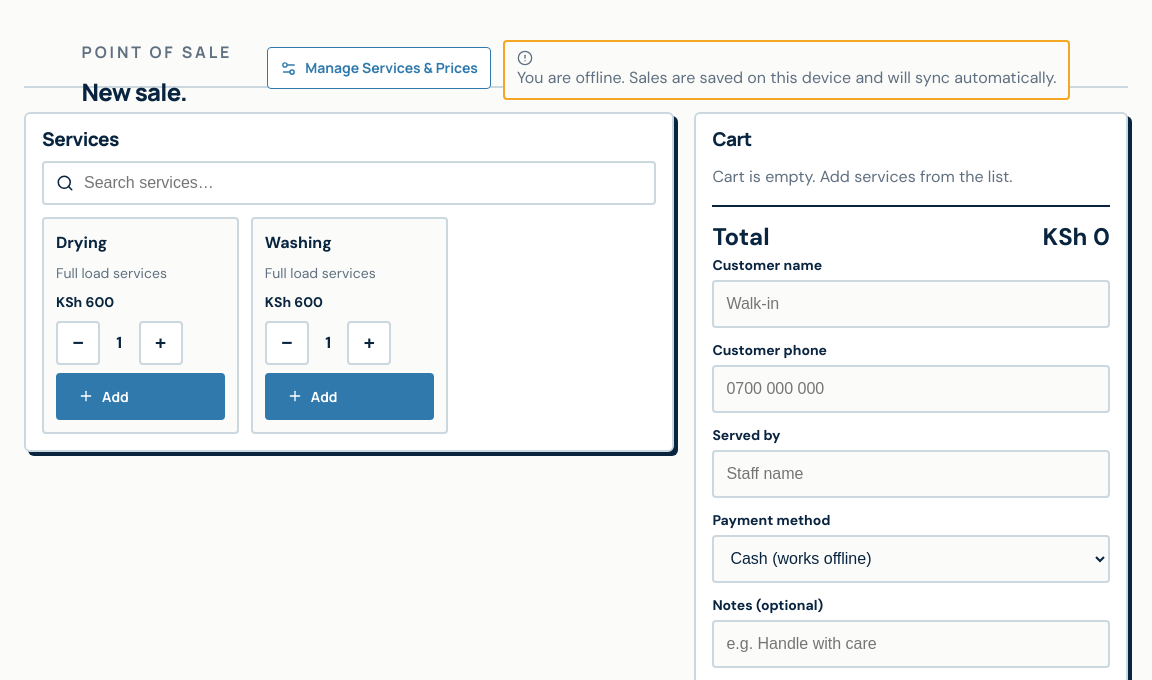
Test: cashier workflow offline (real component, real Dexie) › blocks checkout and persists nothing when customer details are missing
Expected: the text "Washing" is shown, [265, 232, 332, 253]
Click the button "Add" below "Washing" at (349, 396), box [265, 373, 434, 420]
(page scrolled)
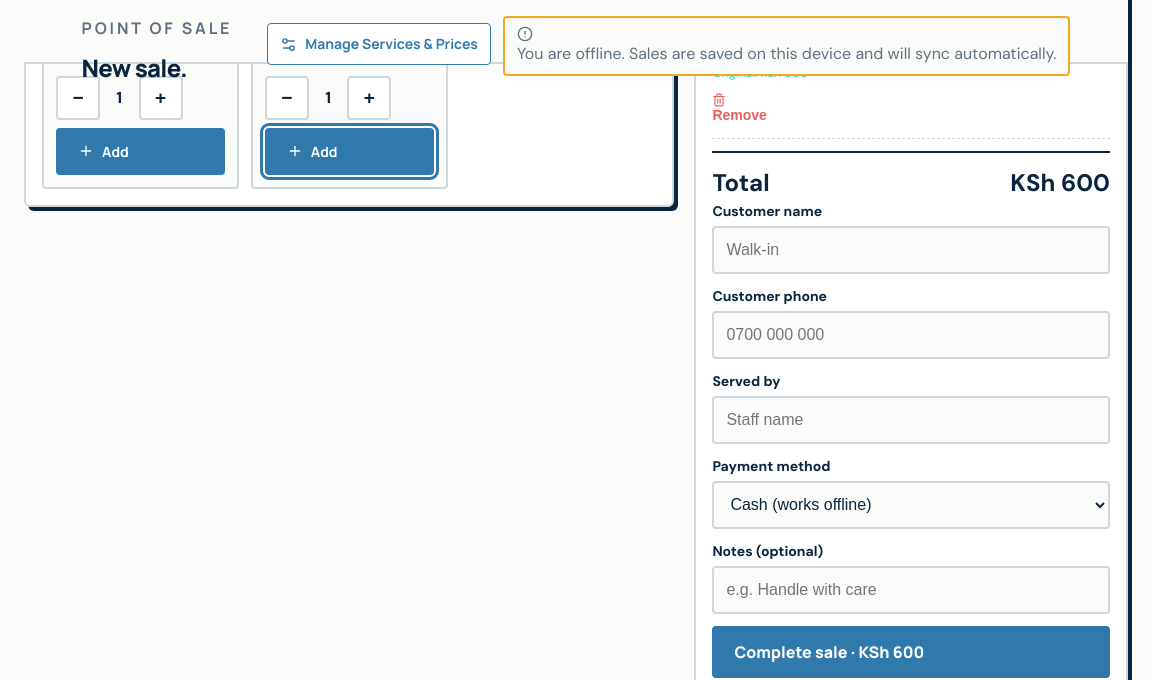
Click the button "Complete sale · KSh 600" at (911, 652), box [712, 626, 1110, 678]
(page scrolled)
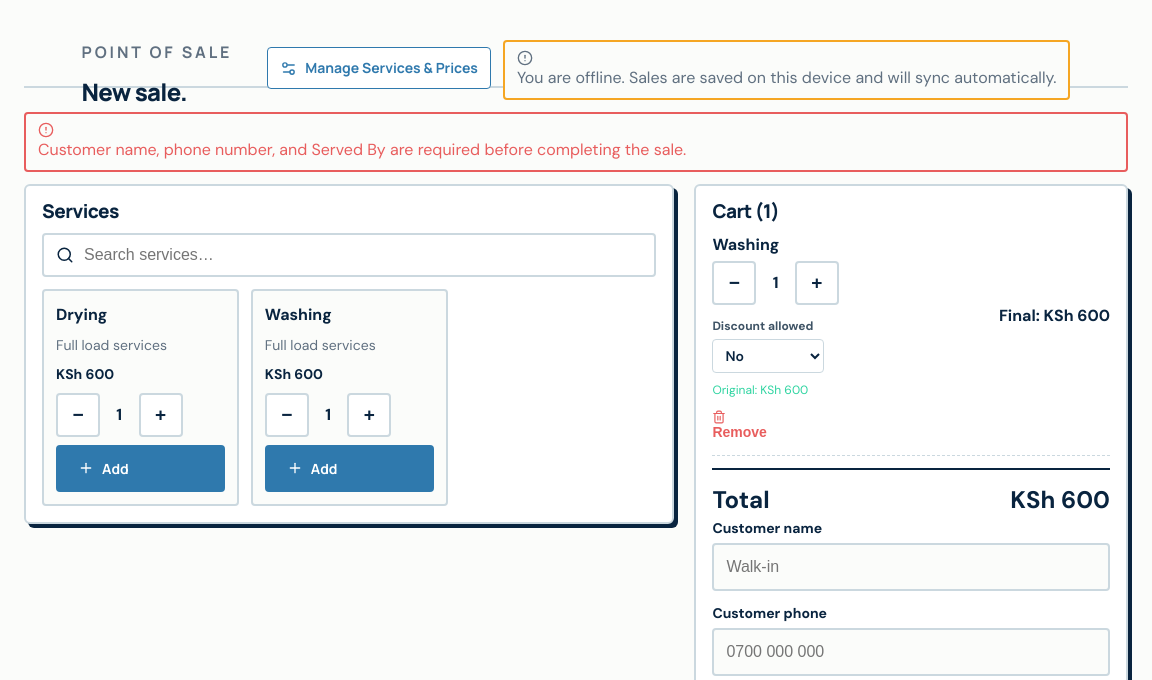
Expected: the 2nd message shows "Customer name, phone number, and Served By are required", [38, 139, 686, 160]
